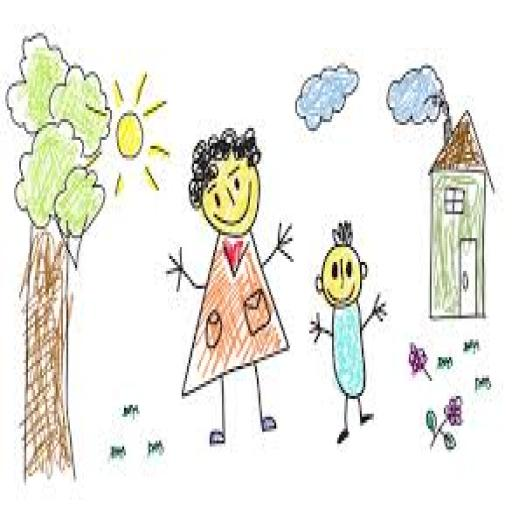person: (163, 119, 298, 452), (312, 219, 389, 452), (310, 331, 312, 332)
